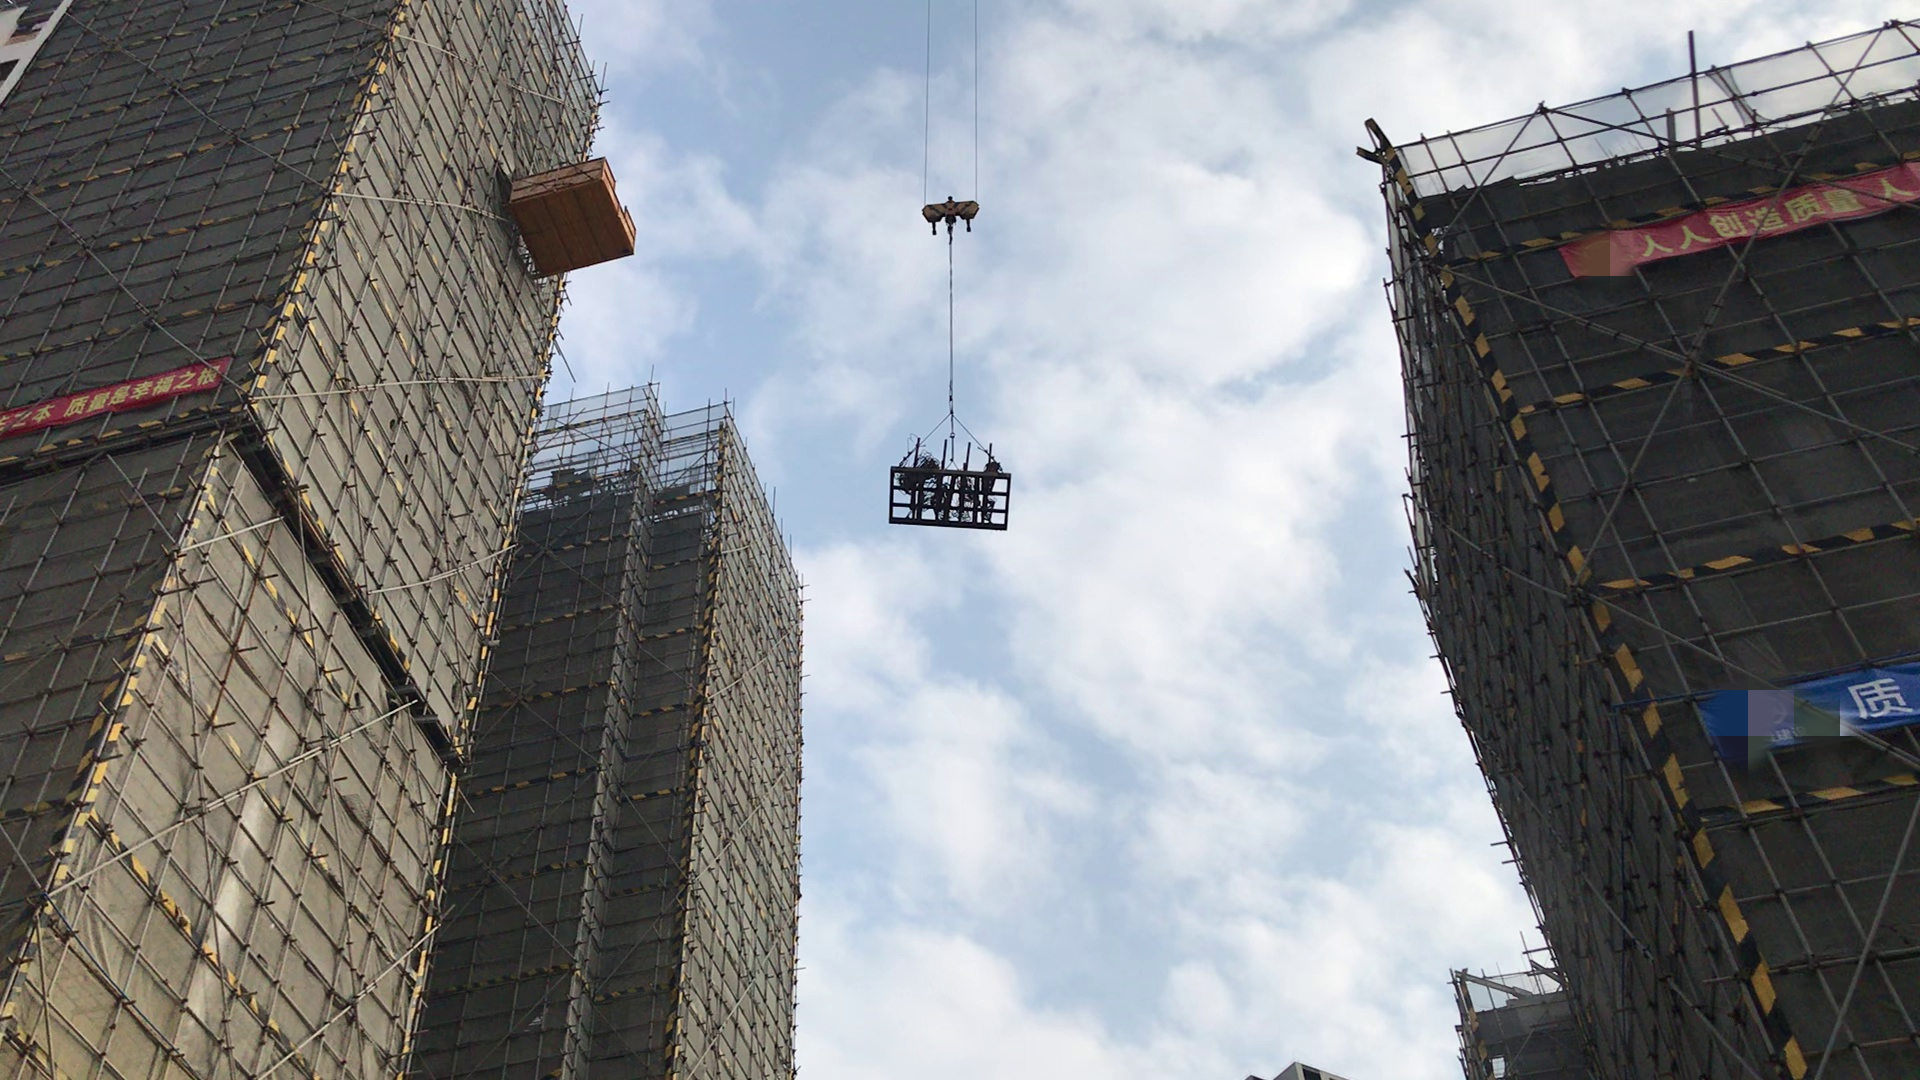hook: (918, 182, 996, 237)
slogan: (1539, 146, 1920, 331), (8, 357, 241, 430)
